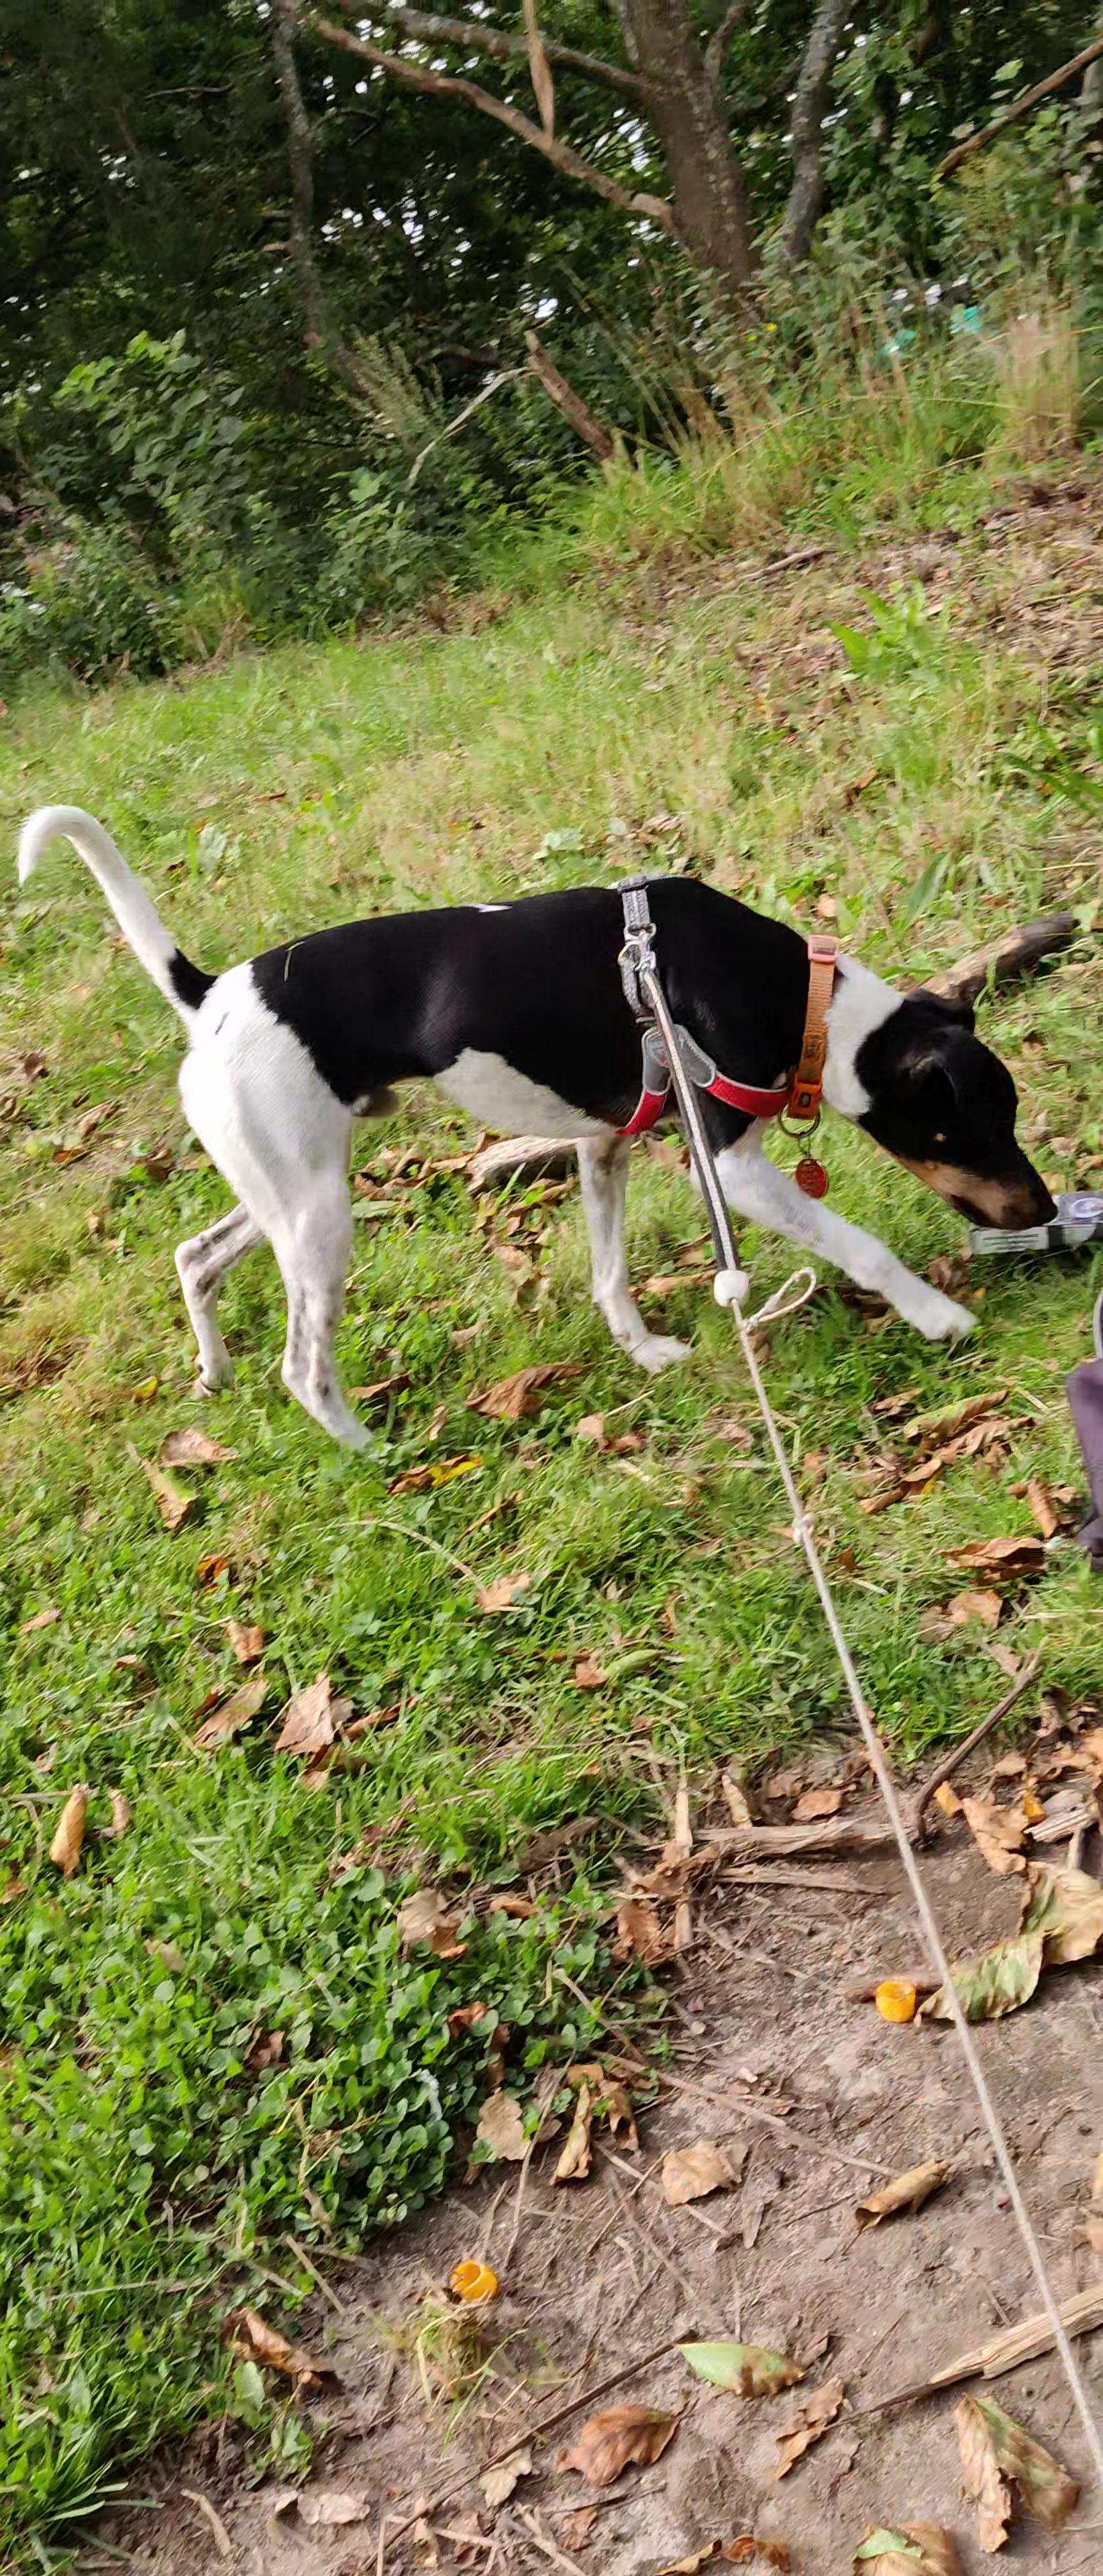Dog: (7, 769, 1065, 1477)
